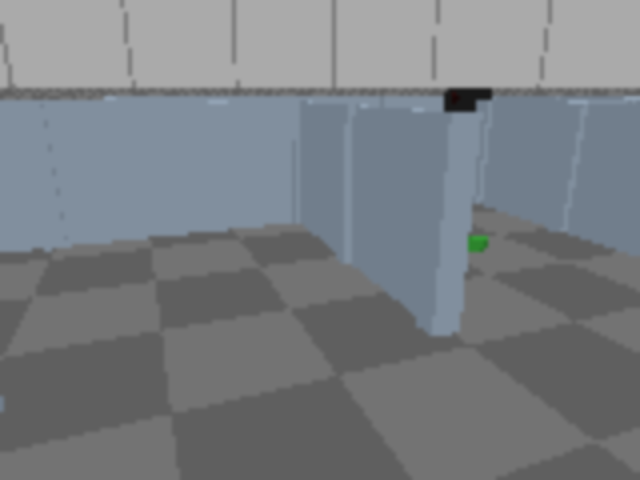puck: (467, 234, 488, 253)
